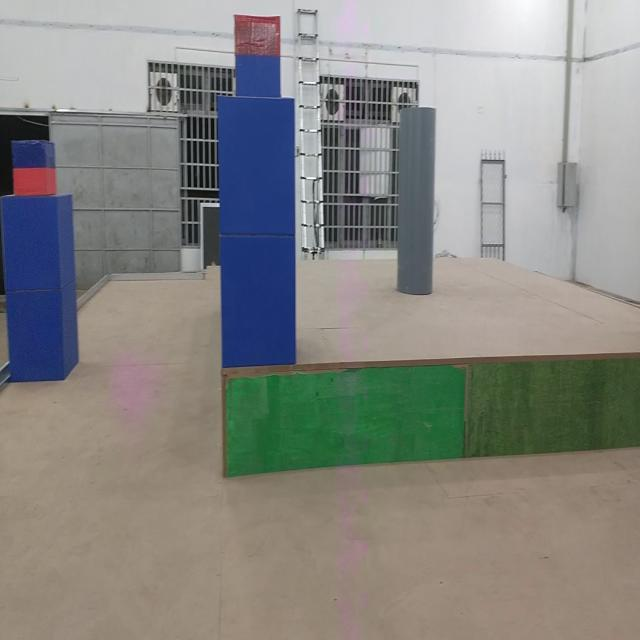earth_block: (217, 96, 298, 234), (220, 235, 299, 368), (0, 285, 80, 388), (0, 194, 77, 288)
sky_block: (233, 13, 281, 98), (9, 138, 57, 194)
